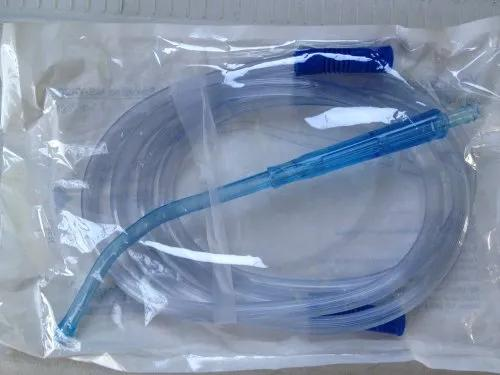Suction Tube Nozzle: (53, 37, 478, 348)
